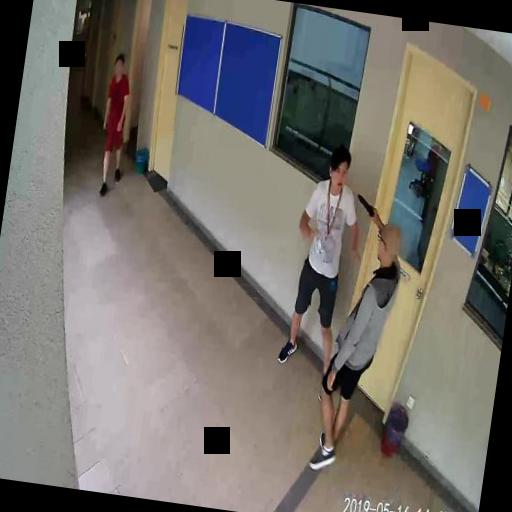Handgun: (354, 192, 378, 220)
